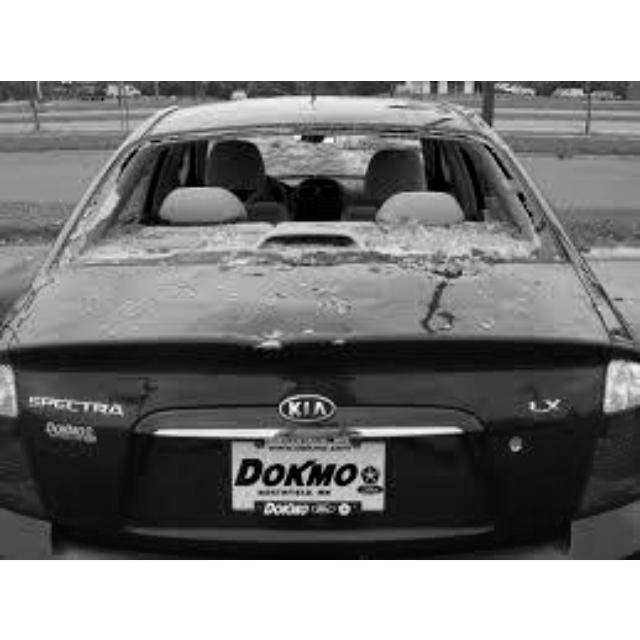Rear-windscreen-Damage: (106, 139, 523, 265)
